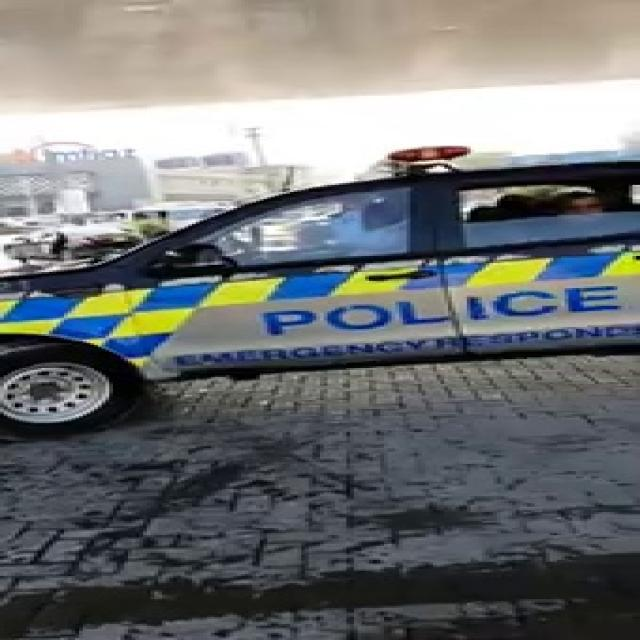police: (30, 192, 640, 399)
